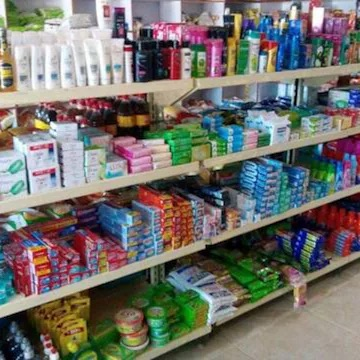parachute: (259, 11, 314, 72)
